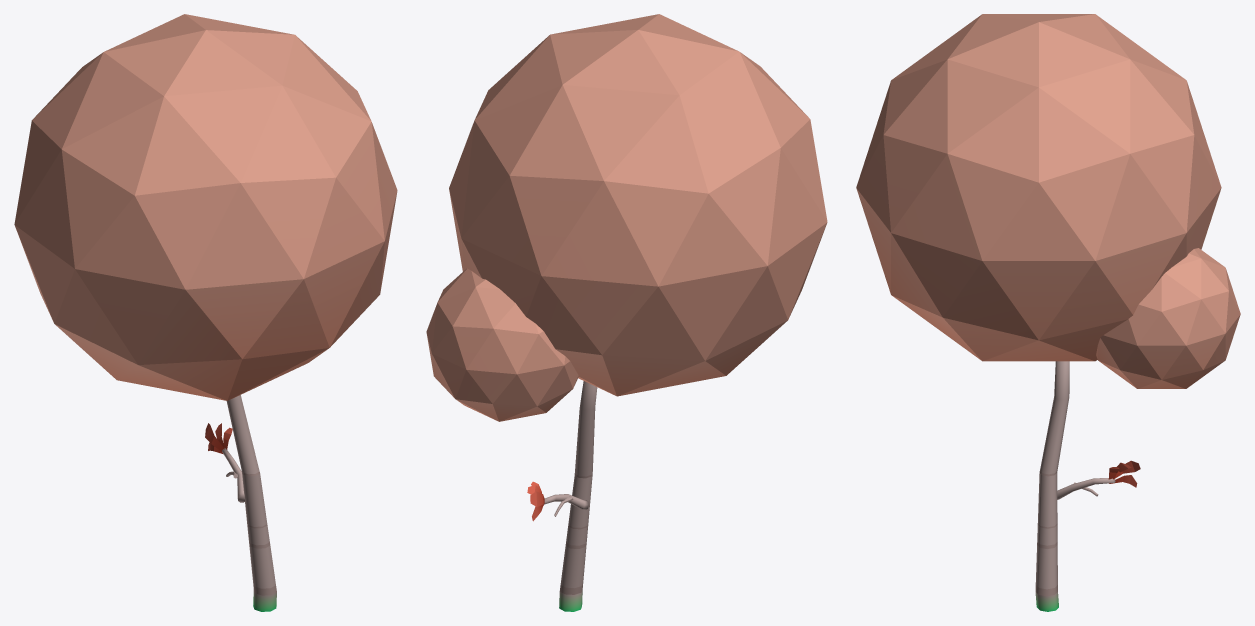
The model's file is mdl_env_1_forest_tree_f_v01.fbx.
3 renders of one model, left to right at view 1: azimuth 30°, elevation 25°; view 2: azimuth 150°, elevation 25°; view 3: azimuth 270°, elevation 25°, orthographic. The views are drawn at different scales.
Parts seen in each view (by area): view 1: mdl_env_1_forest_tree_f_v01; view 2: mdl_env_1_forest_tree_f_v01; view 3: mdl_env_1_forest_tree_f_v01.
Part boxes in pixels (box(x1,y1,x2,y2)): mdl_env_1_forest_tree_f_v01: box(14, 14, 397, 611); mdl_env_1_forest_tree_f_v01: box(426, 14, 827, 611); mdl_env_1_forest_tree_f_v01: box(856, 14, 1240, 611).
Bounding box in the file's own units: 7.45 × 13.16 × 8.25.
